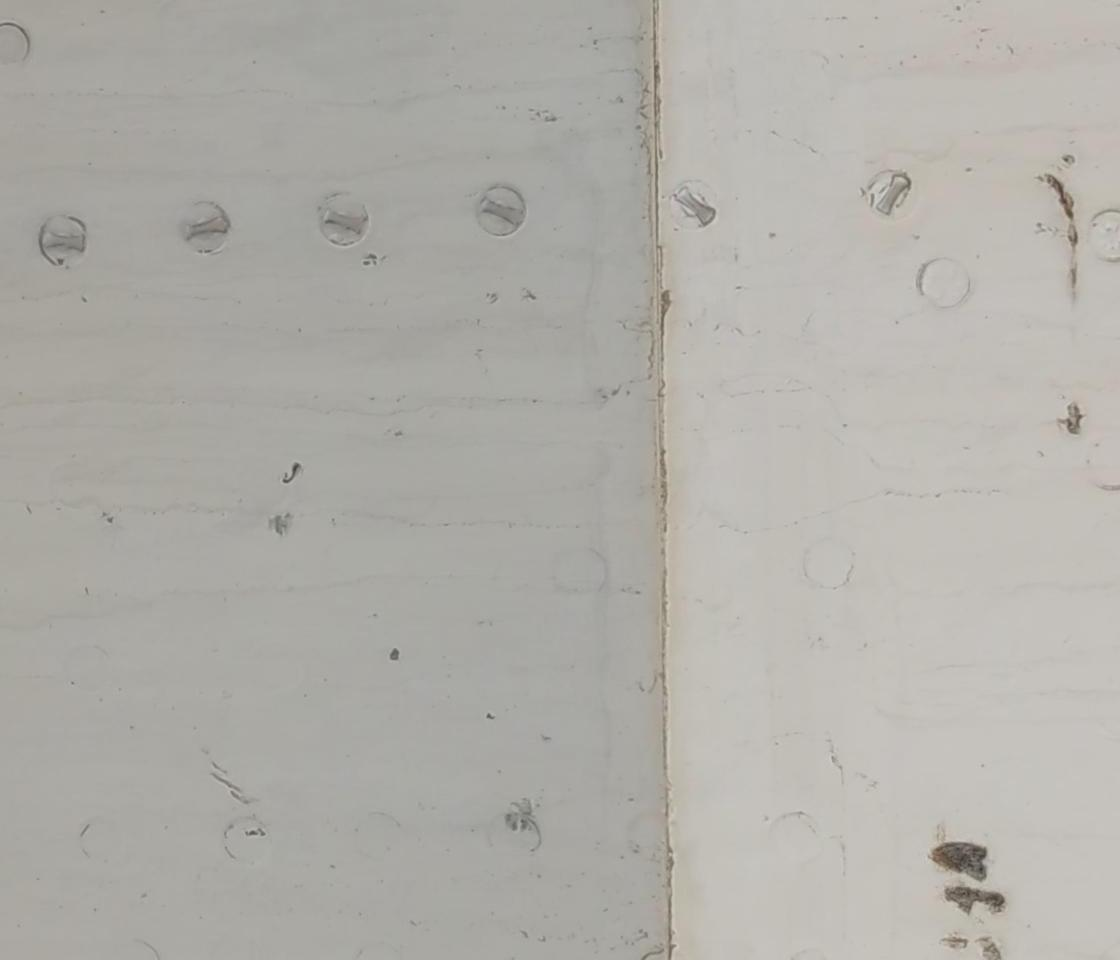paint_peel: (920, 831, 1001, 879), (937, 887, 1016, 918)
